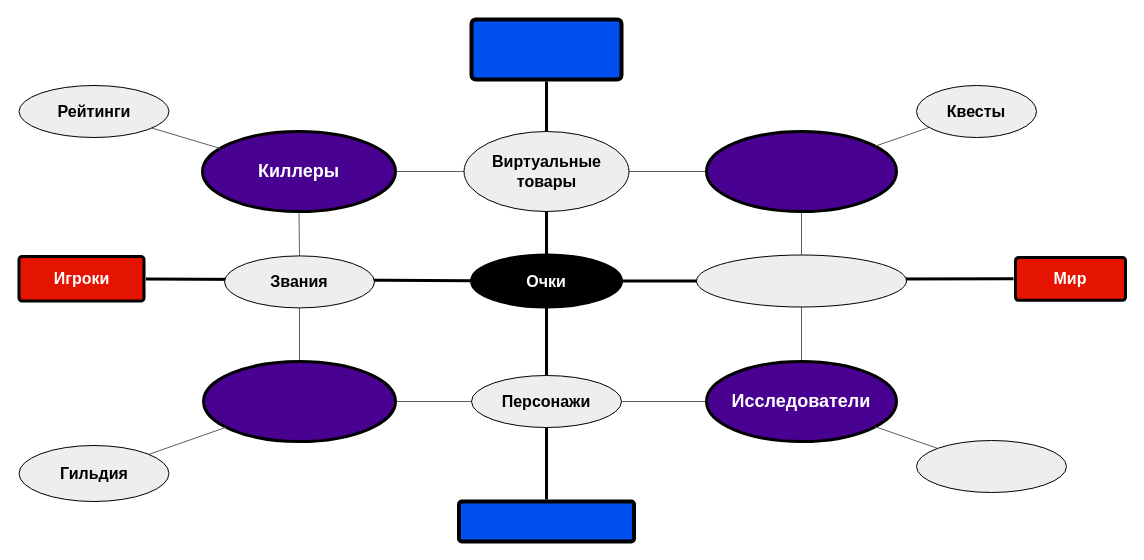
This 1144x560 diagram has some shape labels left out. Here are the shapes that lost their labels. From the top down, the centre of each, then its label:
At [546,49]: "Действие".
At [801,171]: "Карьеристы".
At [801,280]: "Деревья навыков".
At [299,401]: "Социальщики".
At [991,466]: "Артефакты".
At [546,521]: "Взаимодействие".
